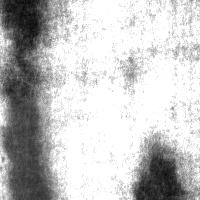patches: (0, 91, 100, 200), (2, 45, 43, 200), (1, 1, 50, 56), (135, 149, 176, 200)
